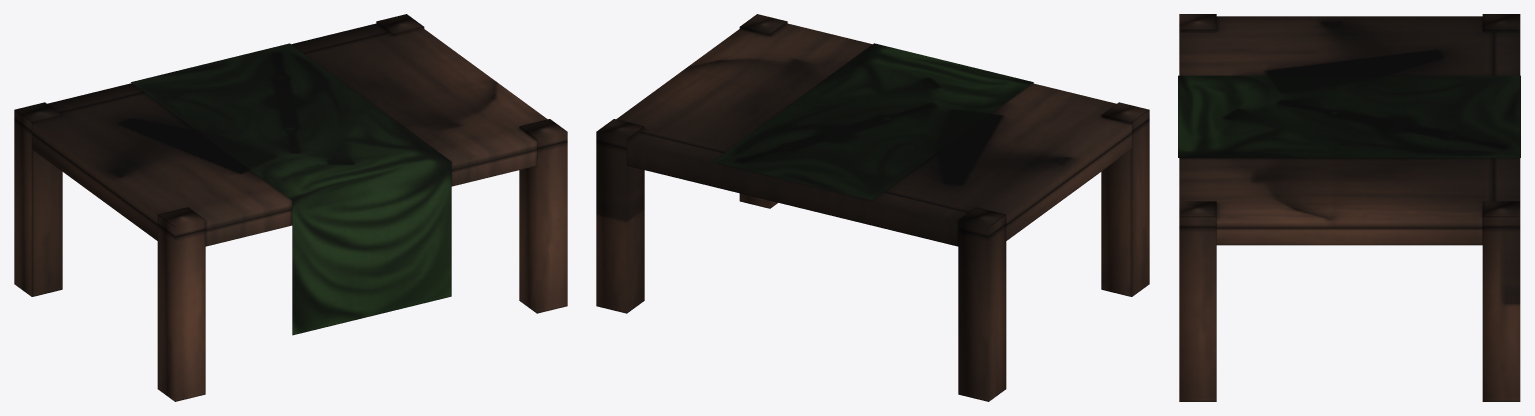
Rendered from display table 2.fbx.
The picture shows the model from 3 angles, left to right: view 1: azimuth 30°, elevation 25°; view 2: azimuth 150°, elevation 25°; view 3: azimuth 270°, elevation 25°; orthographic projection. The views are drawn at different scales.
Visible parts, largest first — view 1: Hunter_shop_table; view 2: Hunter_shop_table; view 3: Hunter_shop_table.
Part boxes in pixels (bbox=[...]): Hunter_shop_table: bbox=[14, 14, 567, 401]; Hunter_shop_table: bbox=[596, 14, 1149, 401]; Hunter_shop_table: bbox=[1178, 14, 1520, 401].
Bounding box in the file's own units: 2.15 × 0.9123 × 1.53.
